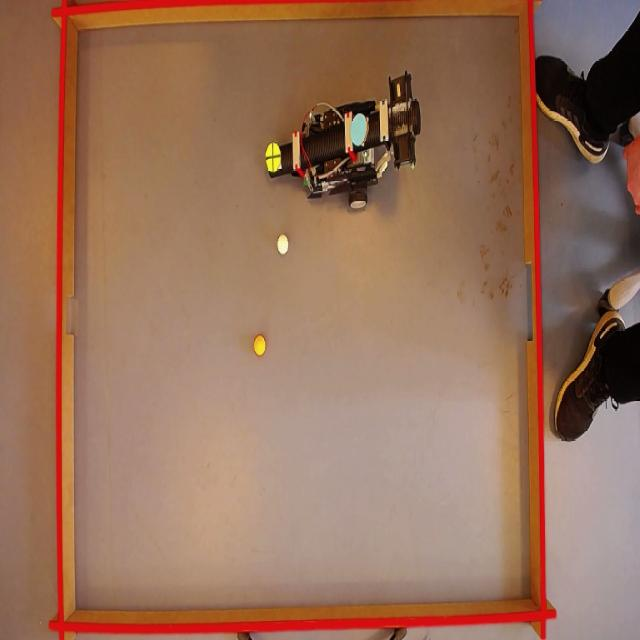orange: (253, 335, 268, 356)
robot: (268, 89, 424, 209)
robot-front: (266, 141, 282, 173)
robot-rear: (348, 110, 367, 148)
white: (275, 234, 288, 254)
